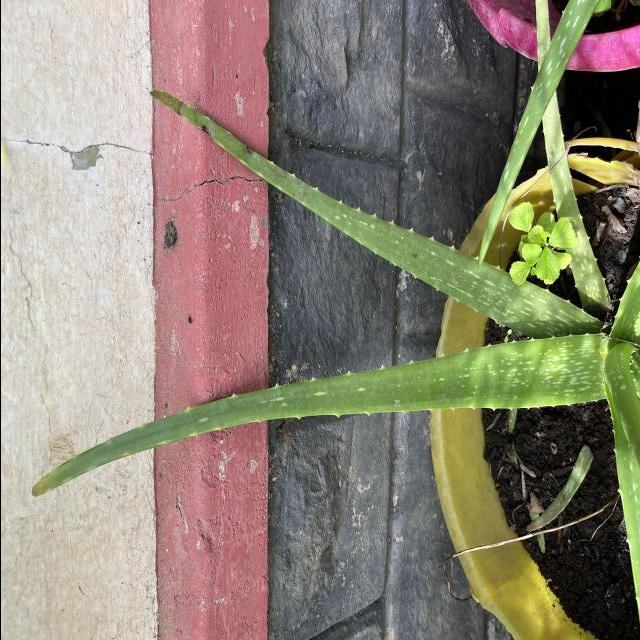Aloe vera: (146, 81, 604, 350), (26, 328, 616, 494)
